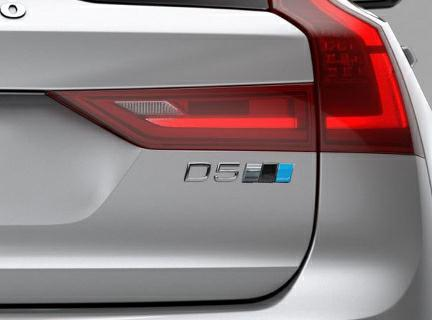沃尔沃-C30: (4, 4, 430, 317)
